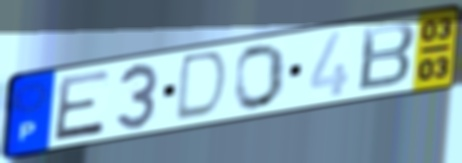3: (114, 60, 162, 132)
4: (306, 30, 353, 99)
B: (355, 20, 418, 94)
D: (171, 48, 232, 124)
E: (51, 67, 113, 144)
O: (233, 42, 288, 113)
